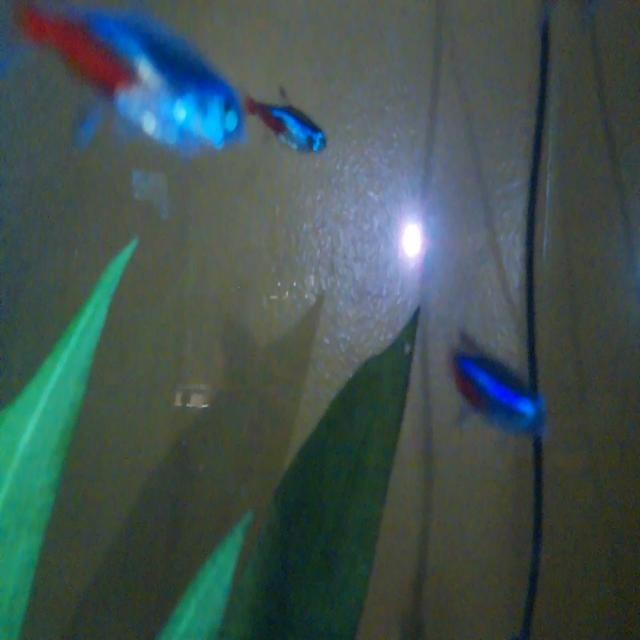fish: (443, 335, 550, 453), (237, 73, 344, 167)
